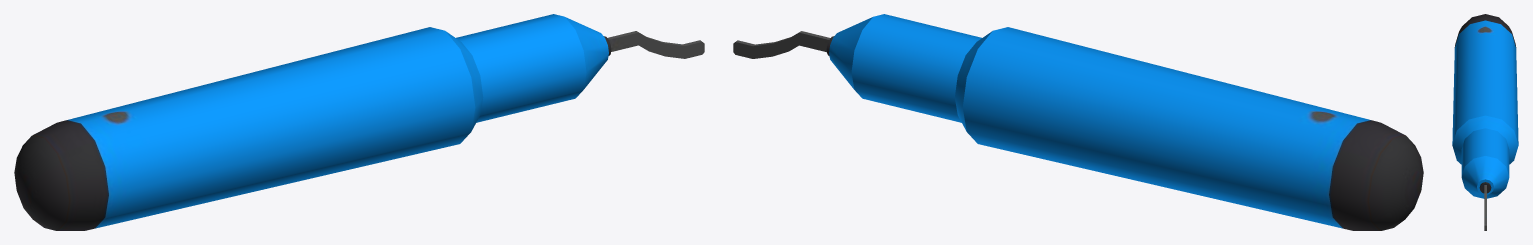
The model's file is tool_rimmer_pencil.glb.
3 views of the same model, side by side, from view 1: azimuth 30°, elevation 25°; view 2: azimuth 150°, elevation 25°; view 3: azimuth 270°, elevation 25° (orthographic). The views are drawn at different scales.
Parts seen in each view (by area): view 1: tool_rimmer_pencil; view 2: tool_rimmer_pencil; view 3: tool_rimmer_pencil.
Boxes of the visible parts, x1,y1,x2,y2 form: tool_rimmer_pencil: (14,14,704,230); tool_rimmer_pencil: (733,14,1423,230); tool_rimmer_pencil: (1452,14,1518,230).
Bounding box in the file's own units: 0.1598 × 0.0246 × 0.0246.
1 material, 1 textured.
